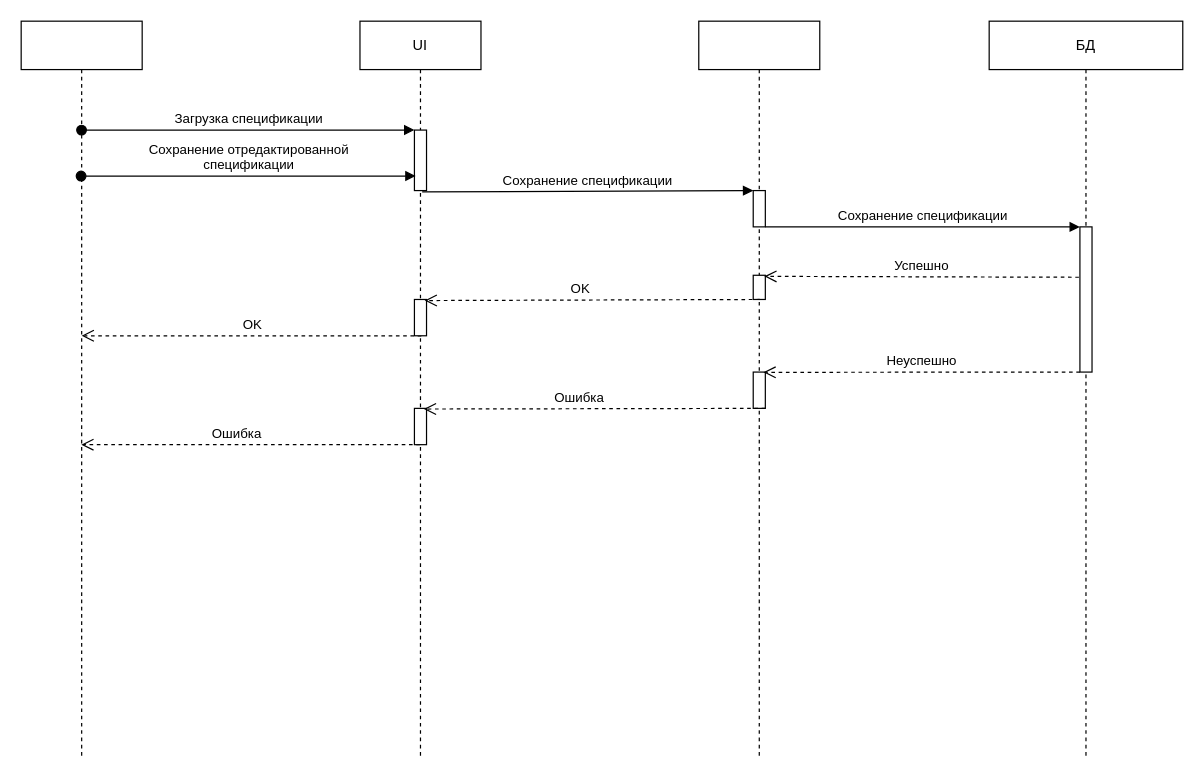
The diagram is 1204 pixels wide and 780 high, and some of its shapes have lost their labels. Here are the shapes that lost their labels. From the top down, the box of each, then its label:
(20, 20, 142, 759): superuser
(698, 20, 820, 759): APIM
